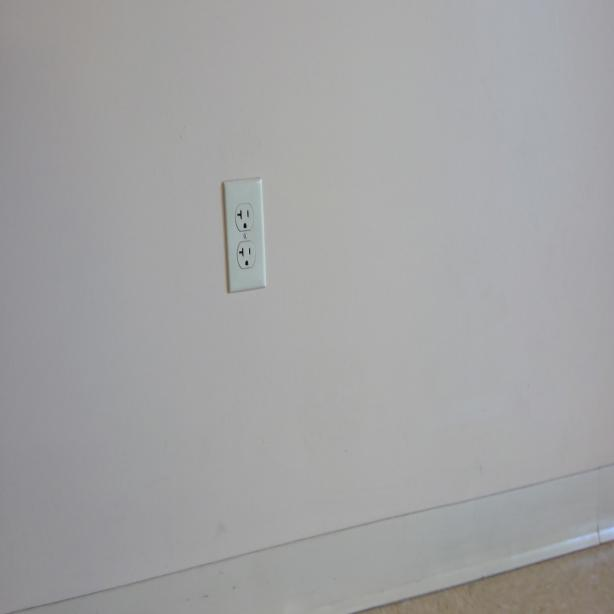typeb: (238, 242, 256, 269), (236, 204, 253, 231)
